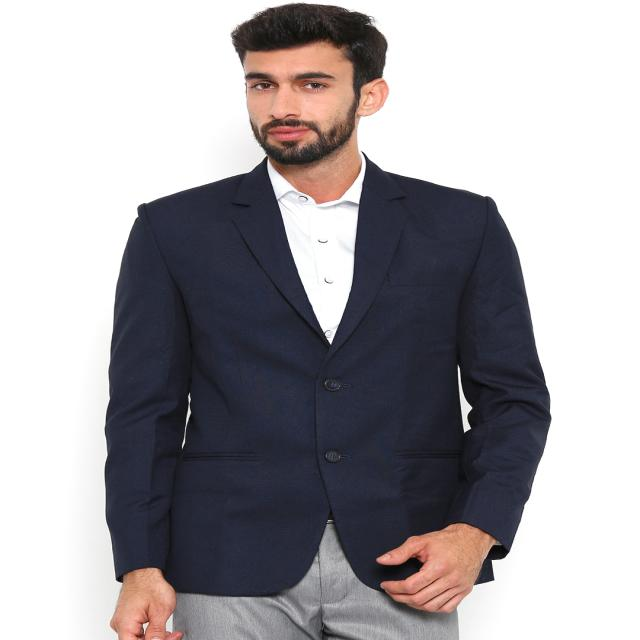human: (97, 2, 555, 640)
